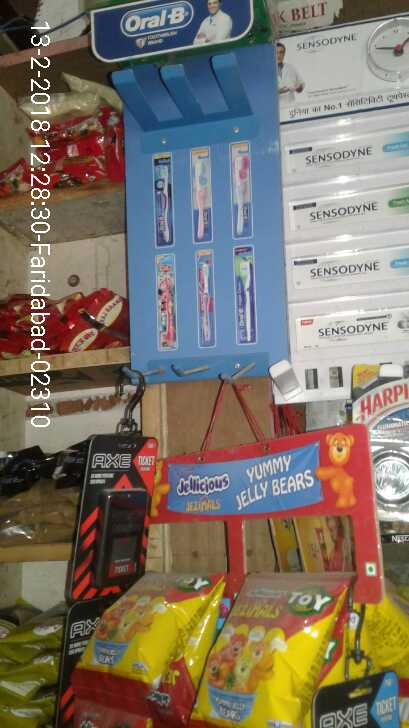oralb: (193, 150, 213, 241), (158, 255, 174, 345), (155, 158, 170, 246), (199, 254, 213, 345), (236, 248, 249, 344), (235, 143, 248, 237)
